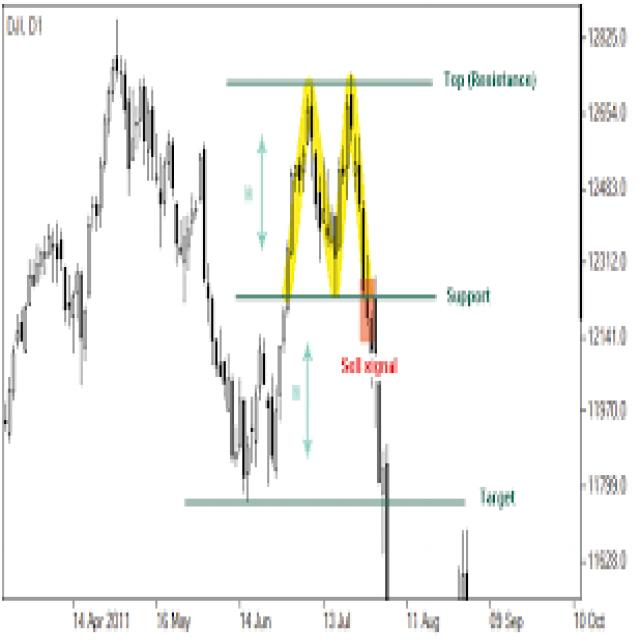bandeira_alta: (75, 25, 196, 392)
fundo_duplo: (193, 223, 305, 504)
topo_duplo: (264, 64, 393, 368)
